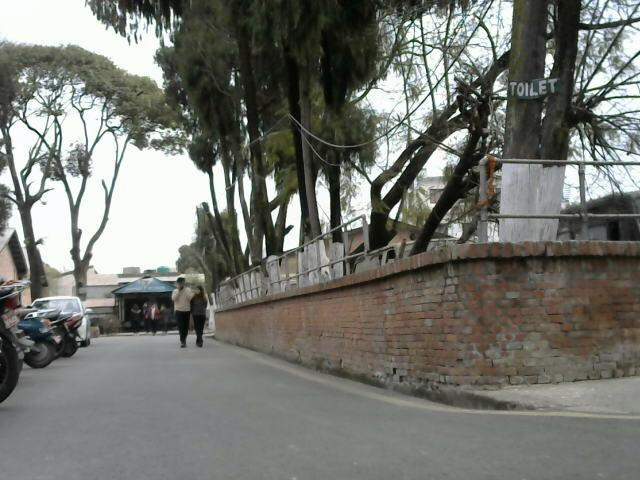Person: (172, 267, 191, 346), (194, 285, 214, 351)
Road: (0, 341, 628, 480)
Tree: (95, 3, 412, 223), (0, 34, 136, 309), (508, 0, 606, 246)
